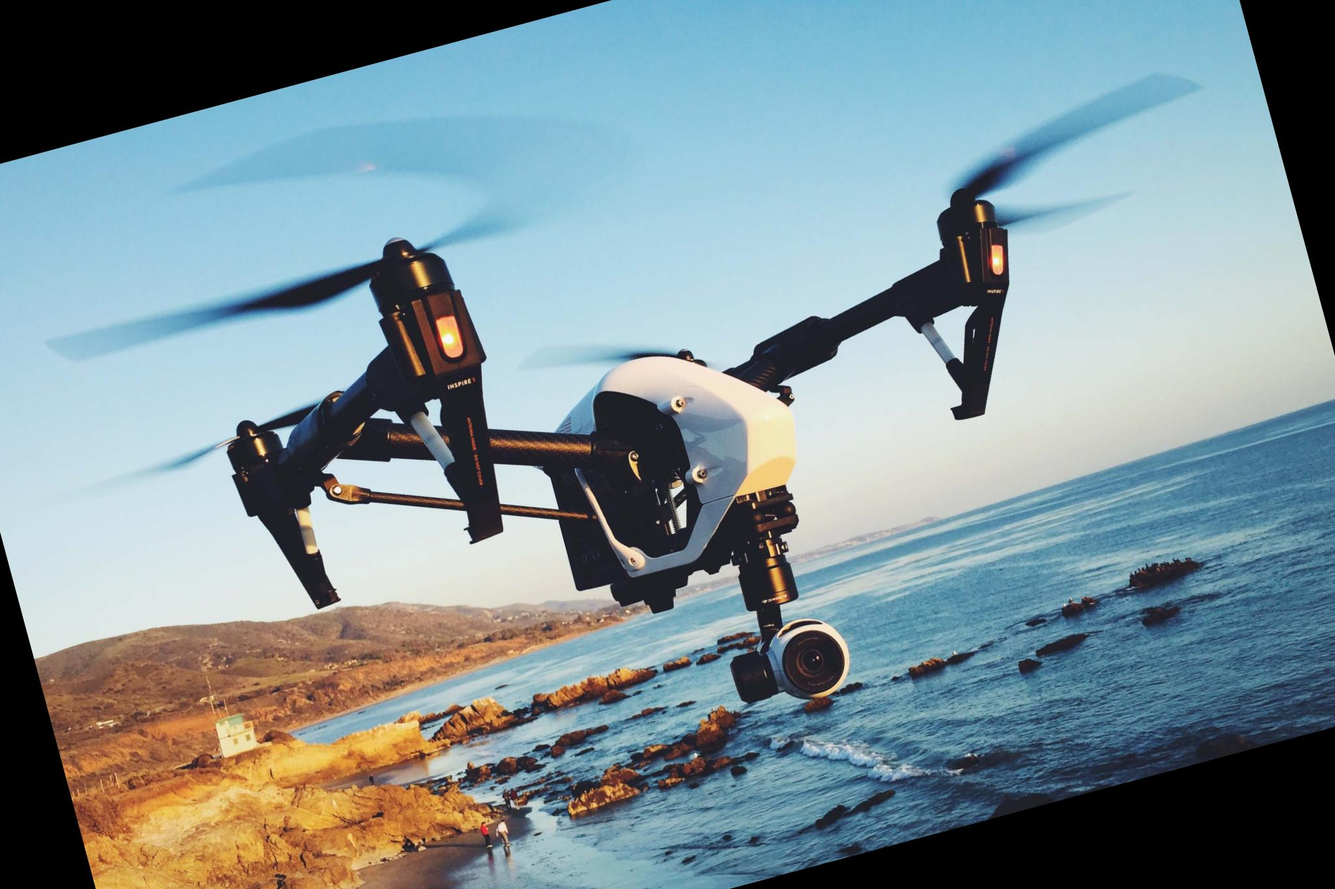drone: (49, 0, 1202, 693)
